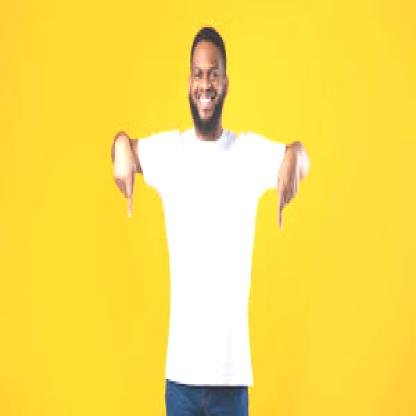Down: (105, 129, 143, 220), (272, 138, 307, 231)
